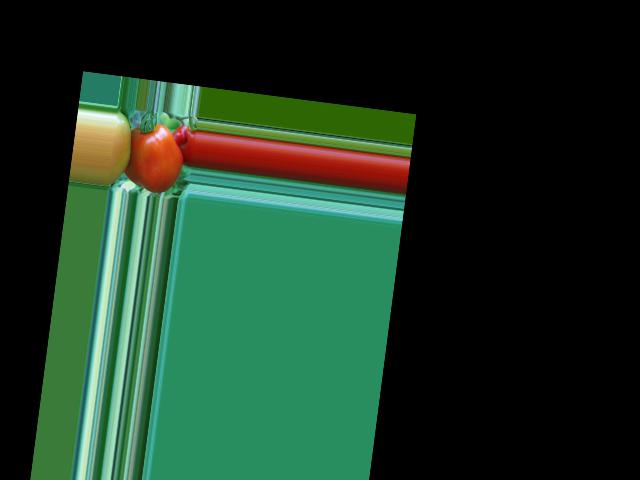tomato: (124, 120, 187, 195)
